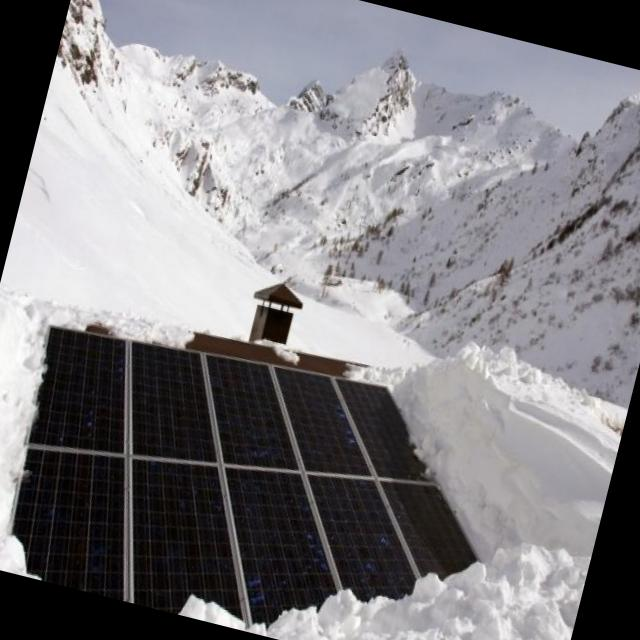faulty: (10, 327, 493, 620)
